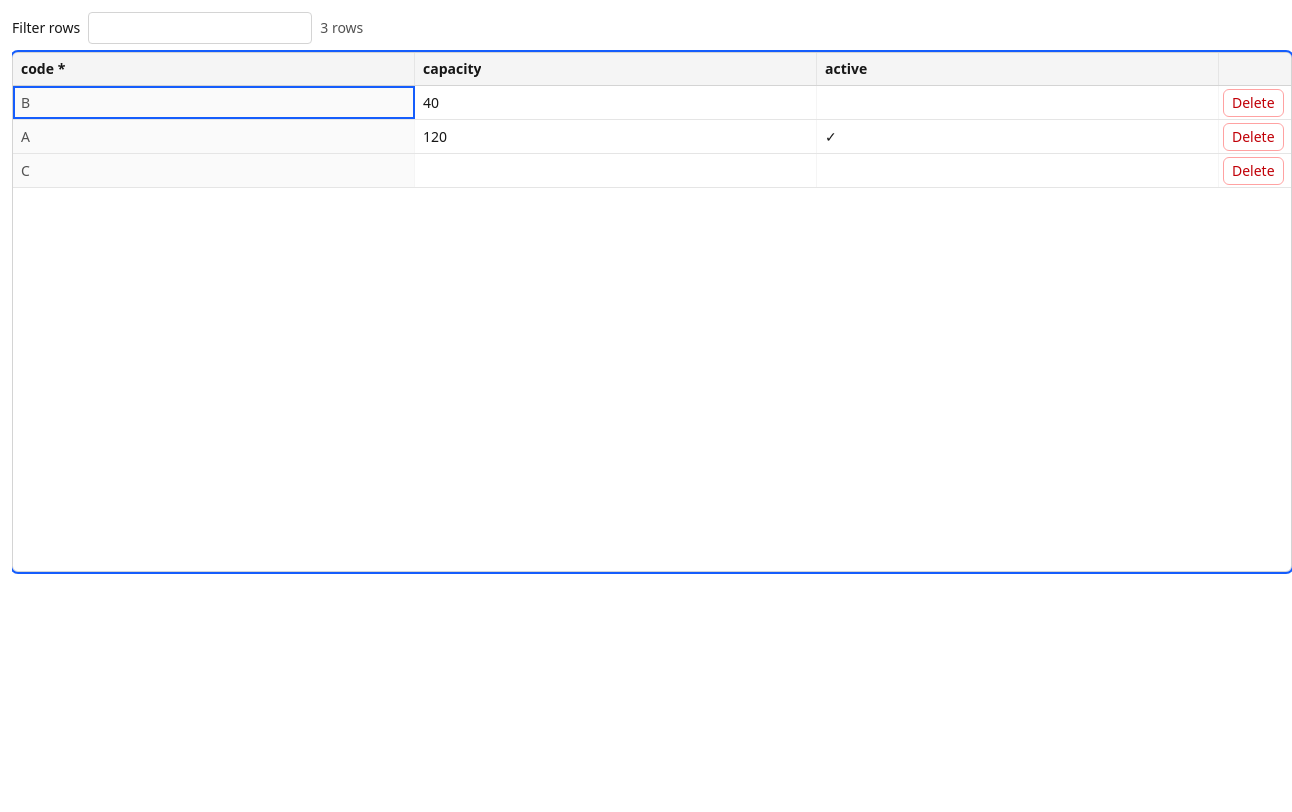
Test: a bad number is refused and the editor stays open
The width and height of the screenshot is (1292, 812).
Press Arrowright Enter
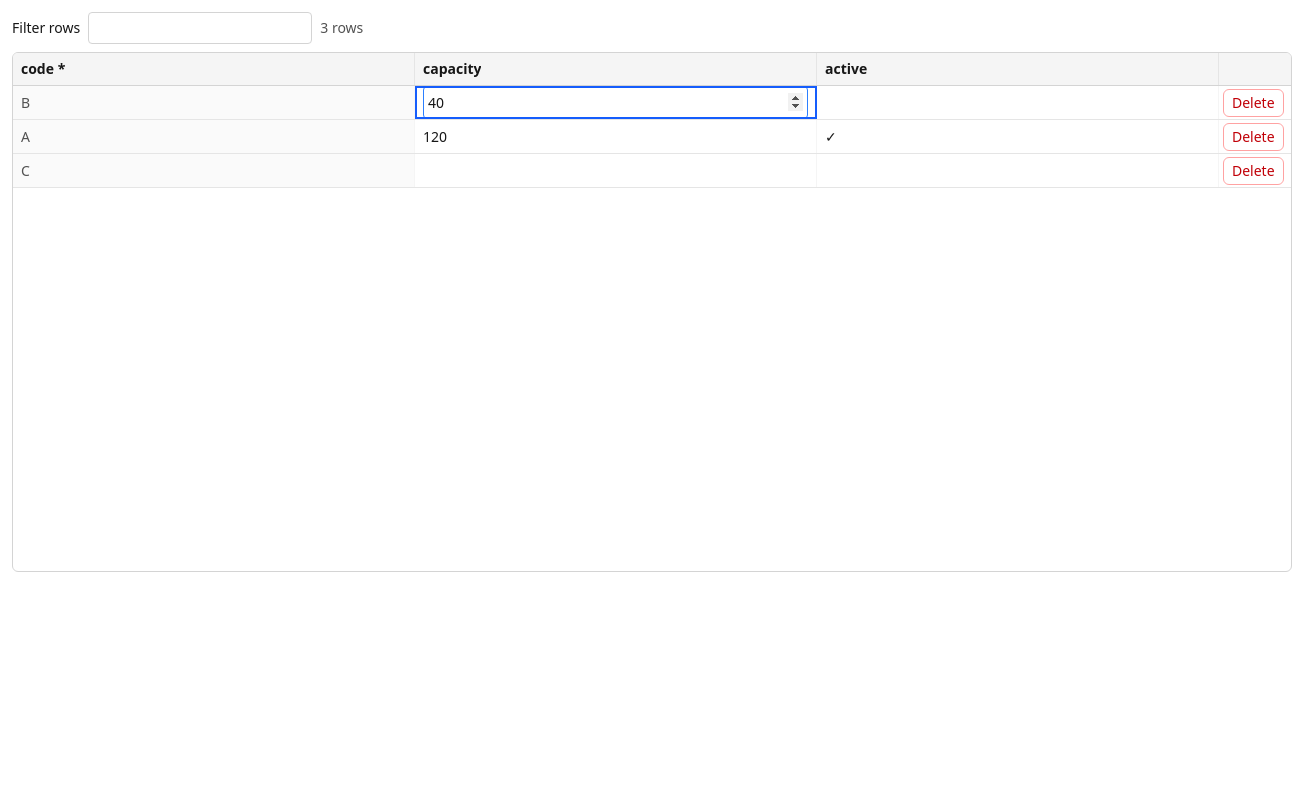
Replace the text in the number field named "capacity of B" with "1.5" at (616, 102), box [423, 86, 808, 119]
Then press Enter
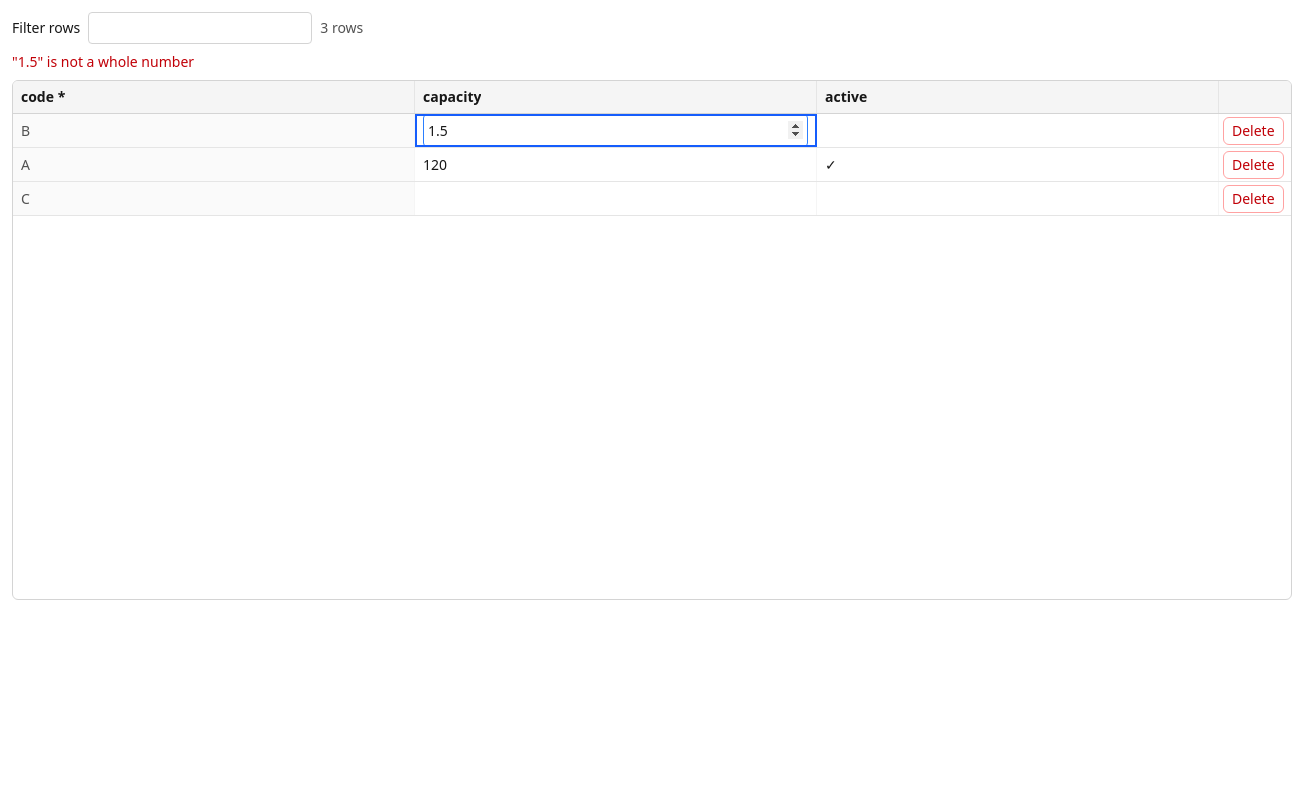
expect the message shows "not a whole number": met, box [12, 52, 194, 71]
